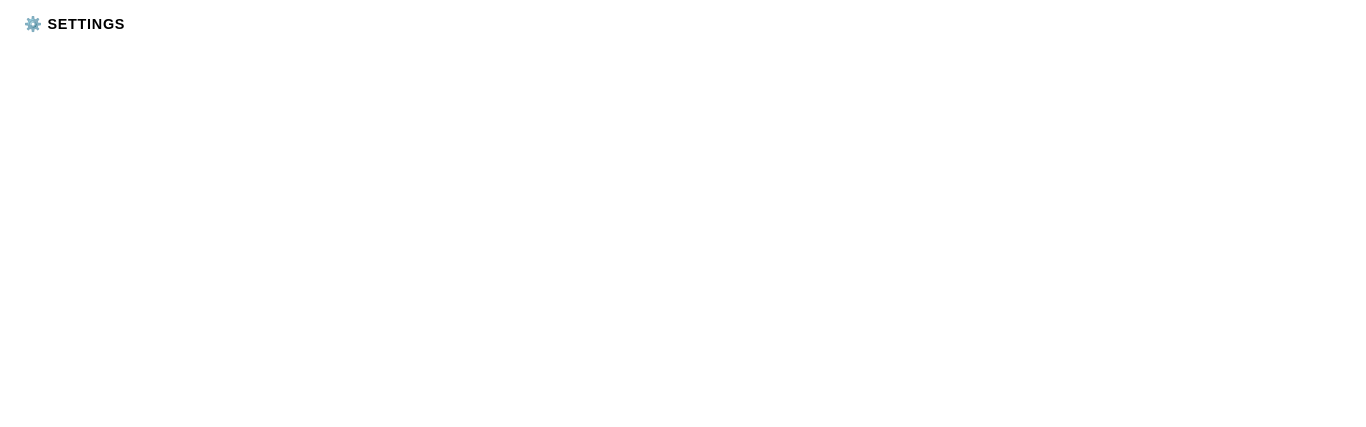
Scenario: SettingsPanel › shows panel when settings button is clicked
The image size is (1366, 427).
Click the button "⚙️ Settings" at (75, 24), box x1=8 y1=8 x2=141 y2=41
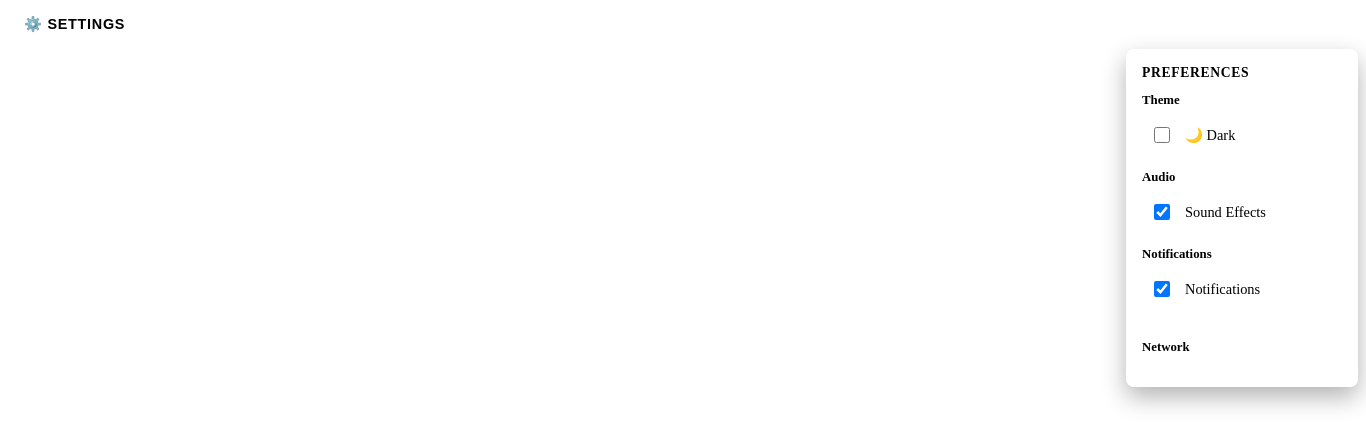
Now the text "Preferences" is shown, box x1=1142 y1=65 x2=1249 y2=80
